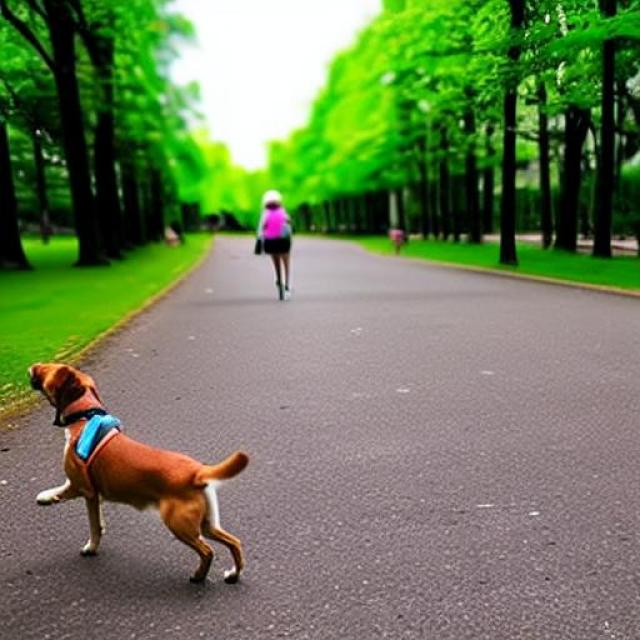Dog: (28, 362, 250, 584)
